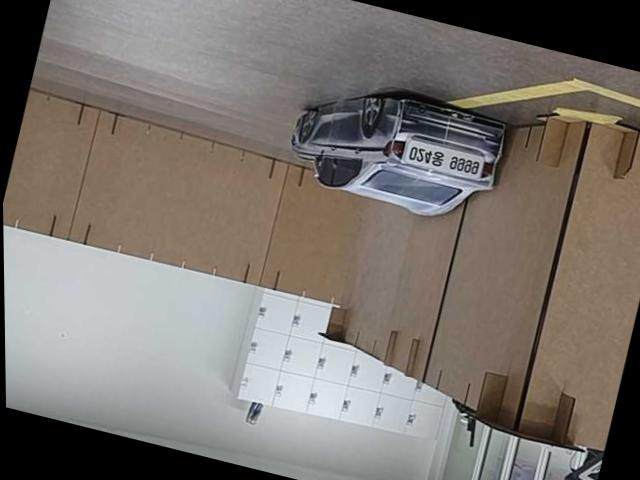car: (273, 64, 519, 240)
id: (398, 135, 488, 187)
